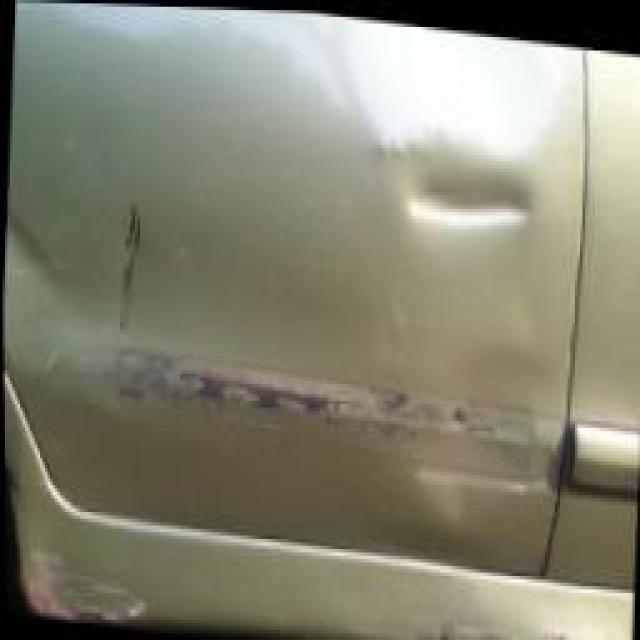Door: (3, 1, 582, 560)
